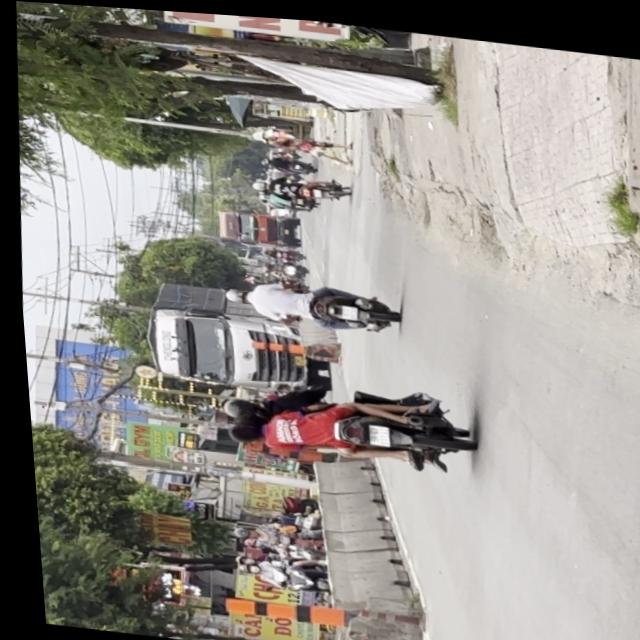helmet: (214, 393, 259, 419)
licenseplate: (210, 366, 471, 474)
motorcyclist: (218, 419, 259, 443)
nohelmet: (359, 419, 384, 441)
